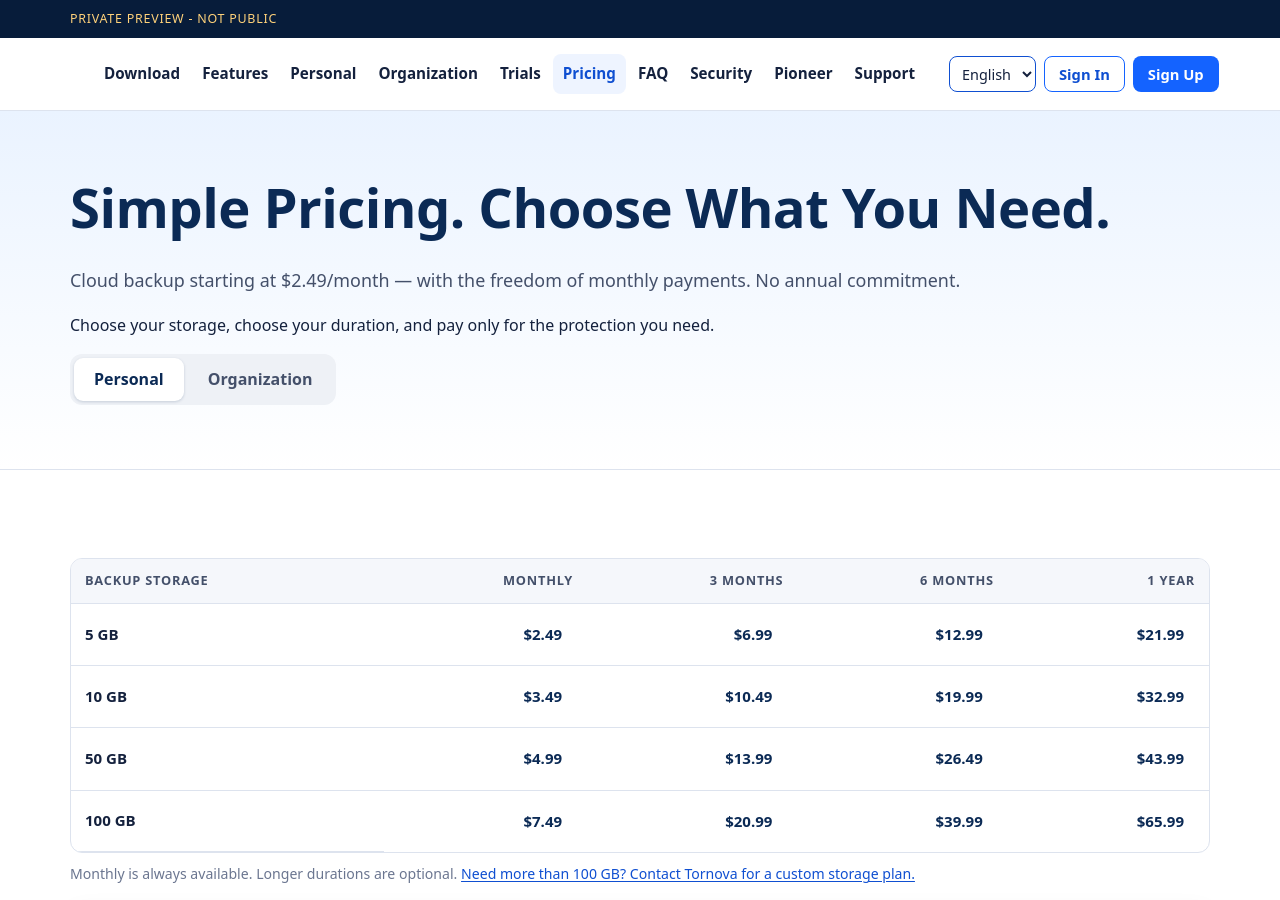
Scenario: safety holds while findings are deferred to Stage 14 (VG 2026-09-19) › still offers it on the Global storefront
Click the button "$2.49" at (543, 634), box [512,616,573,653]
(page scrolled)
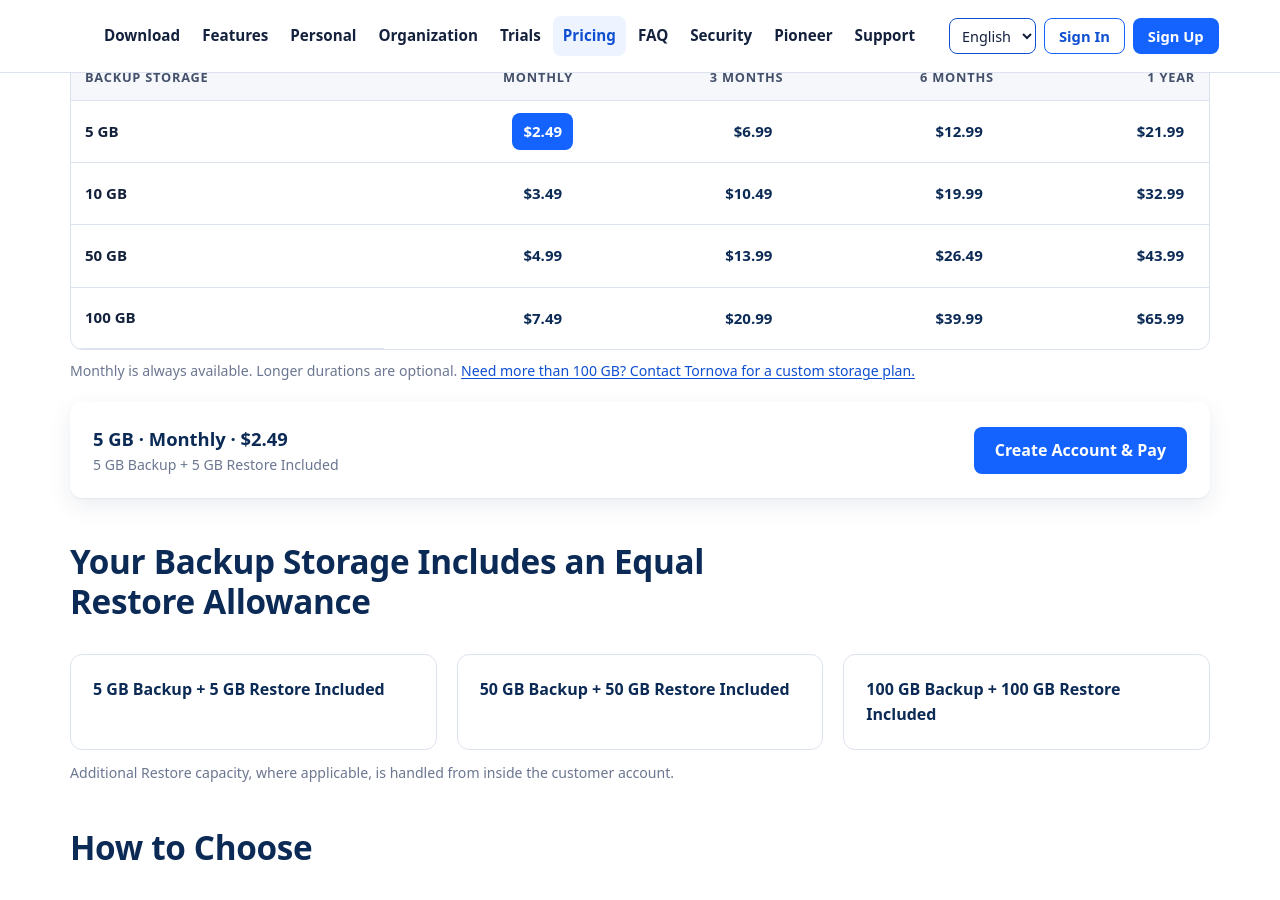
Expected: the link "Create Account & Pay" is shown, [974,427,1187,474]
